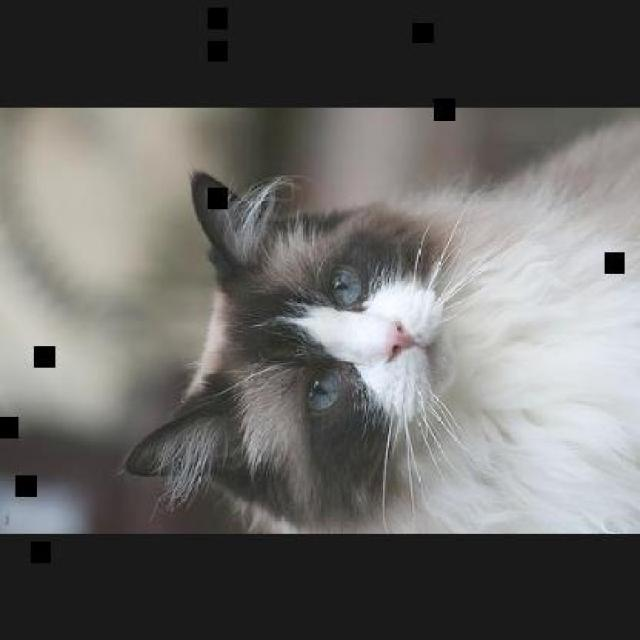unauthorized: (120, 110, 638, 536)
